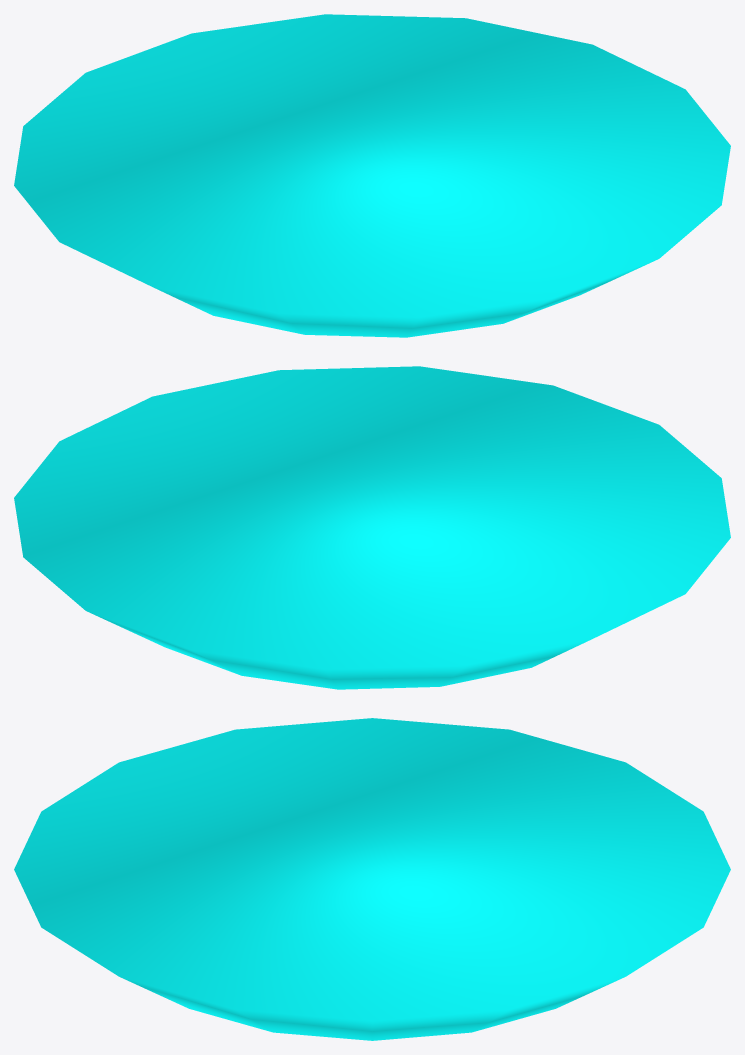
File: WaterDrop_5.glb
3 views of the same model, one above another, from view 1: azimuth 30°, elevation 25°; view 2: azimuth 150°, elevation 25°; view 3: azimuth 270°, elevation 25° (orthographic).
Visible parts, largest first — view 1: WaterDrop_5; view 2: WaterDrop_5; view 3: WaterDrop_5.
Boxes of the visible parts, <box> form: WaterDrop_5: <box>14,14,730,337</box>; WaterDrop_5: <box>14,366,730,689</box>; WaterDrop_5: <box>14,718,730,1040</box>.
Bounding box in the file's own units: 0.3187 × 0.0452 × 0.3187.
1 material, 1 textured.
